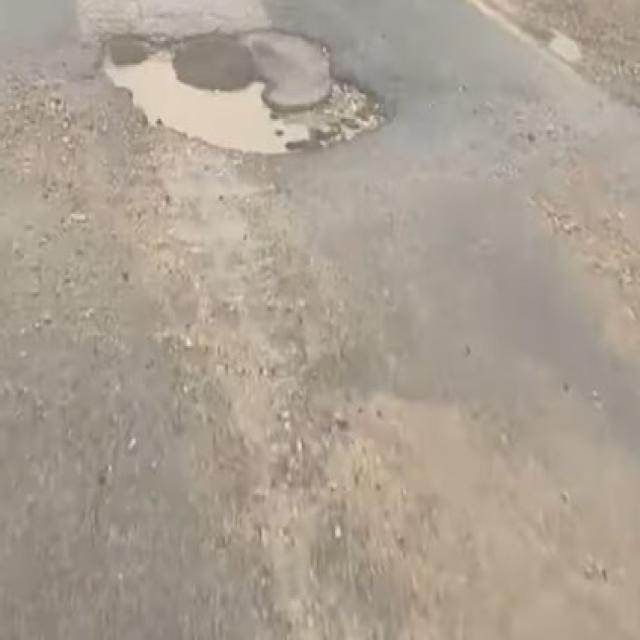major_pothole: (90, 24, 390, 158)
